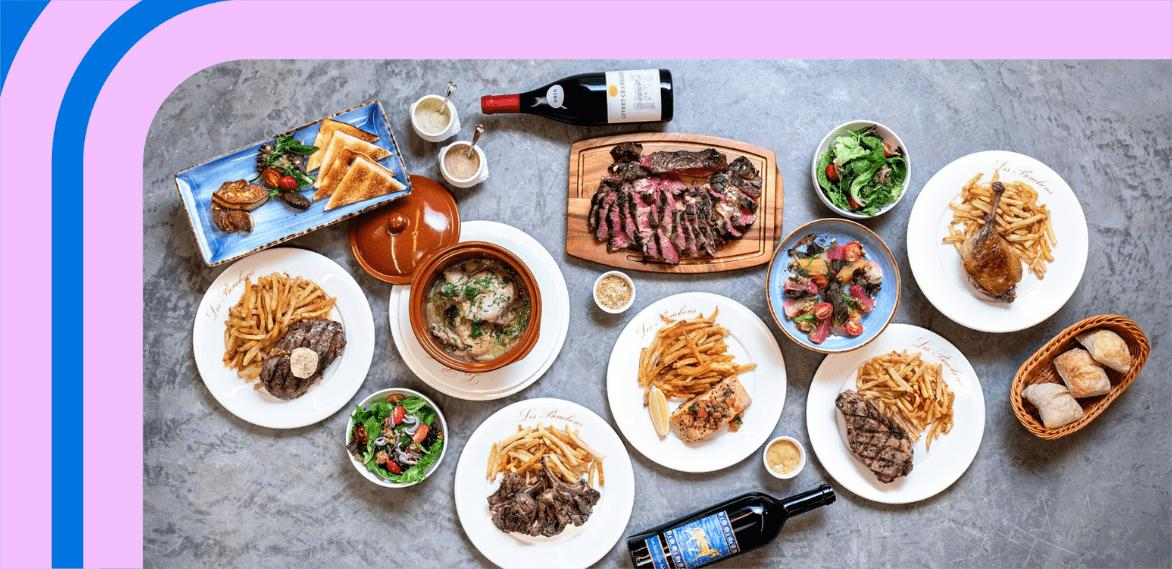Braised Crucian Carp: (174, 97, 415, 268), (905, 149, 1091, 333), (190, 246, 376, 426), (803, 323, 980, 502), (451, 398, 636, 567), (389, 220, 558, 399), (604, 294, 773, 472), (590, 132, 773, 273), (1009, 314, 1150, 438), (773, 217, 895, 352)
